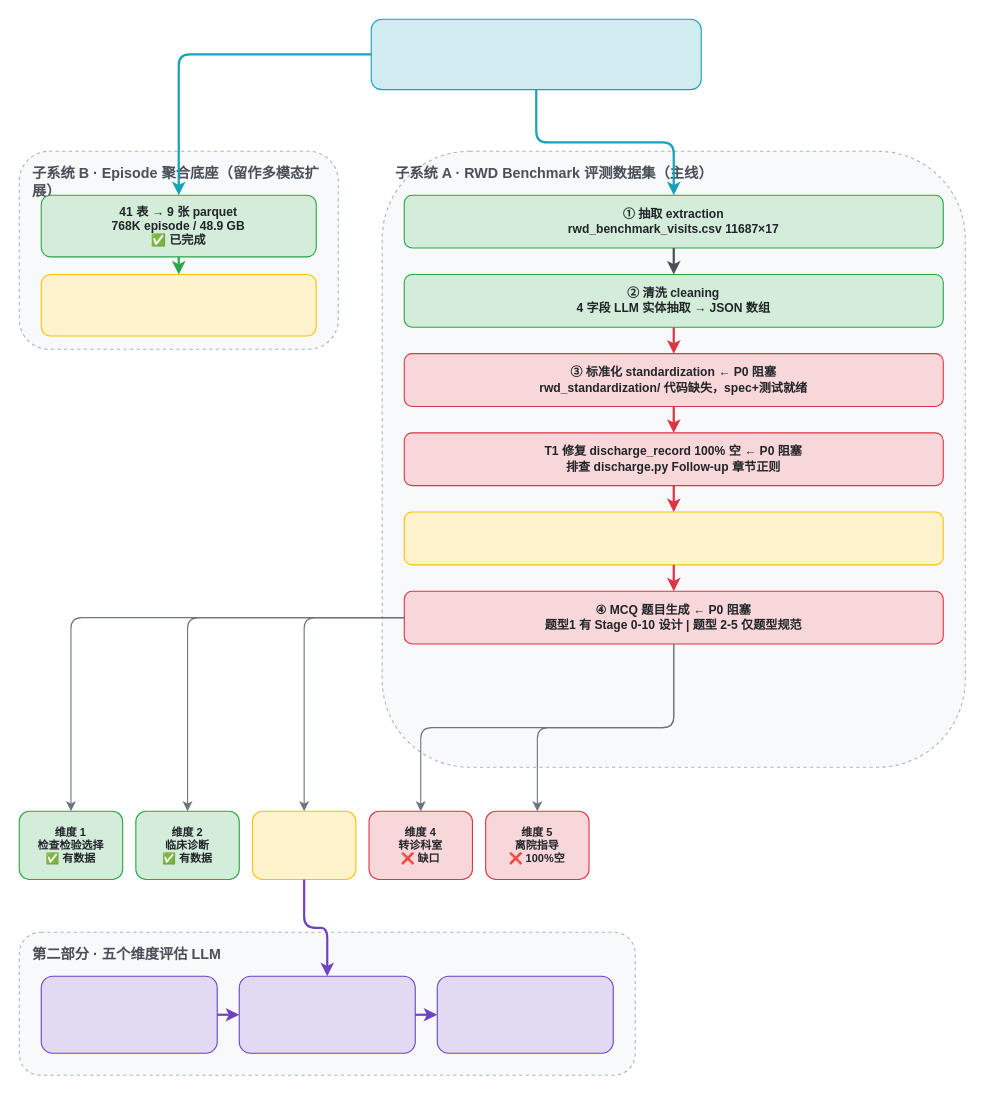
The diagram is 985 pixels wide and 1095 high, and some of its shapes have lost their labels. The shapes that lost their labels are listed below. From the top down, each one's centre as x and y in pixels, then its label:
(535,54): MIMIC 原始数据 IV 3.1 + Note 2.2 + ED 2.2 SHA 全通过
(178,304): 删除 154 个负时长 episode SQL 已改 / 脚本待运行 ⚠️ 可并行收尾
(673,538): T4 补齐维度 4 转诊科室数据来源 确认 services/transfers 是否需新增抽取
(303,844): 维度 3 治疗处置 ⚠️ 部分
(128,1014): T7 评估框架设计 脚本+指标+LLM接入 subject_id 级划分防泄漏
(326,1014): T8 五维度逐一评测 含人工/自动审题门禁
(524,1014): T9 结果分析与报告
